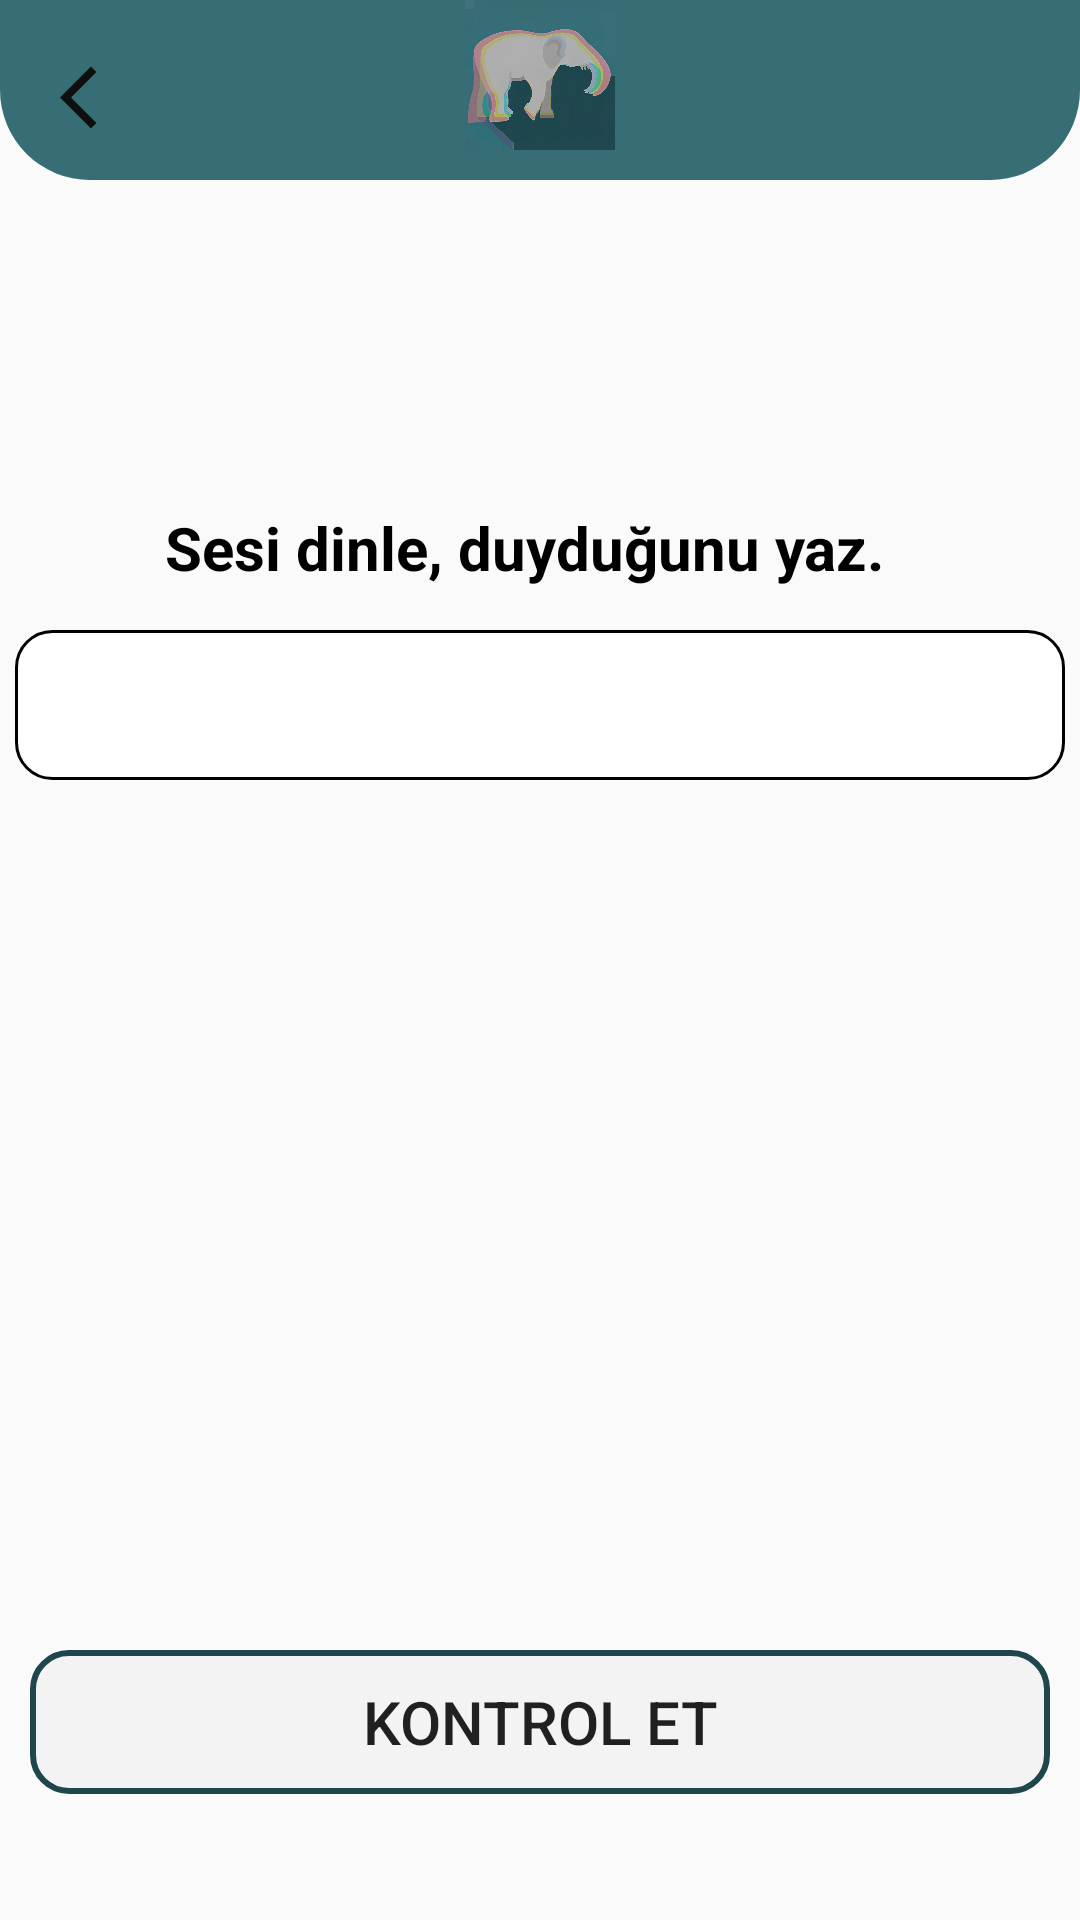

Screen size 1080x1920. Icon name, then its center in pixels as (x=x, y=y):
back: (x=78, y=97)
